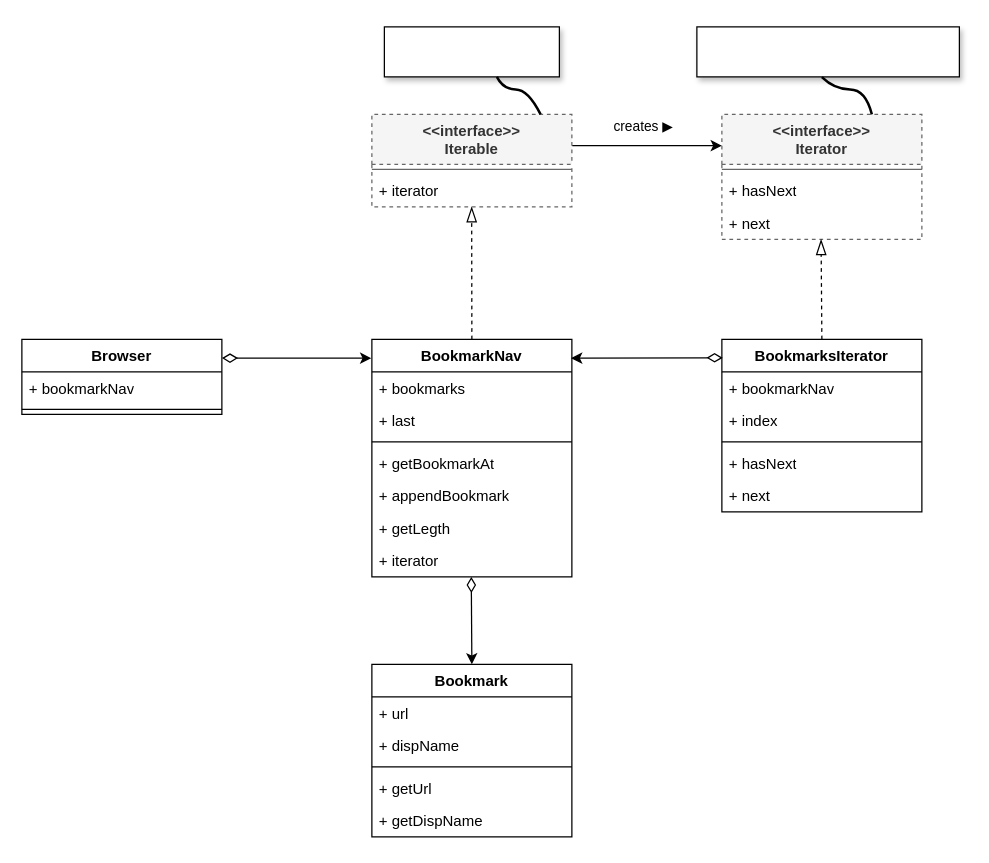
The diagram is 989 pixels wide and 863 high, and some of its shapes have lost their labels. Each missing label, with the centre of its shape:
処理を繰り返す反復子を表す interface: the point at 829,53
集合体を表す interface: the point at 472,53
